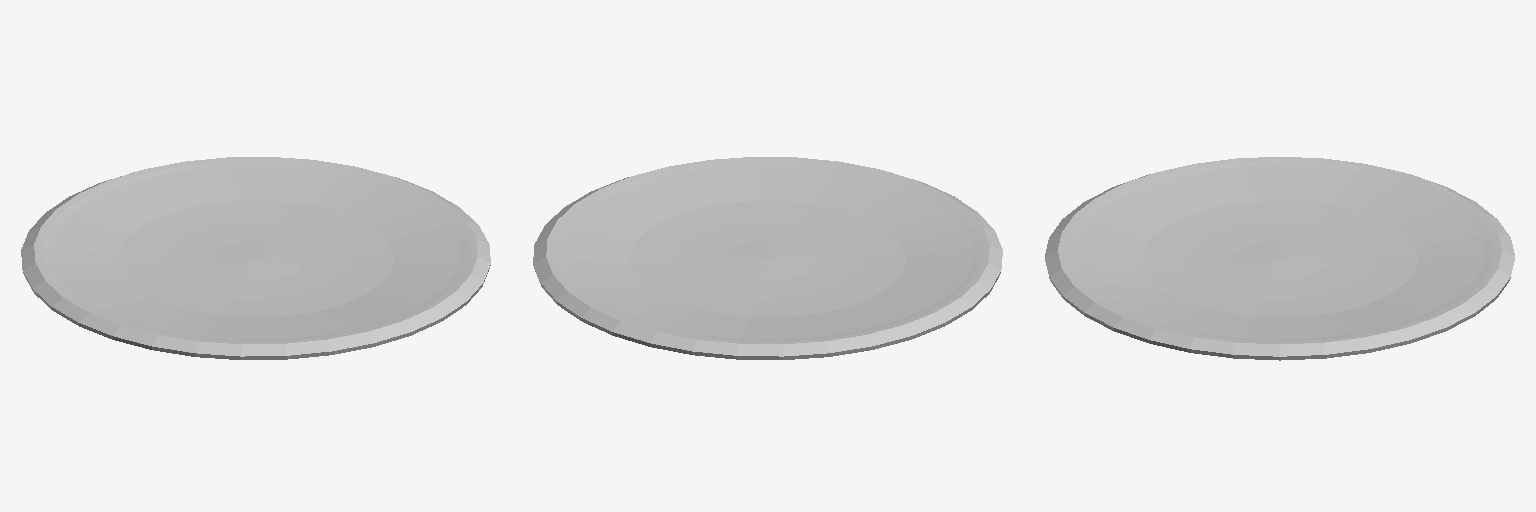
The model's file is pizza_V3.obj.
3 views of the same model, side by side, from view 1: azimuth 30°, elevation 25°; view 2: azimuth 150°, elevation 25°; view 3: azimuth 270°, elevation 25° (orthographic).
Visible parts, largest first — view 1: Sphere; view 2: Sphere; view 3: Sphere.
Part boxes in pixels (x1,y1,x2,y2): Sphere: (21,157,490,359); Sphere: (533,157,1002,359); Sphere: (1045,157,1514,360).
Bounding box in the file's own units: 2.05 × 0.0522 × 2.05.